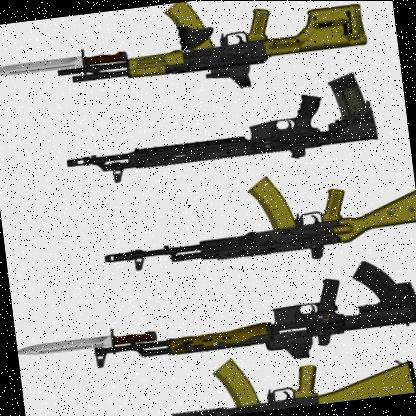rifle: (95, 163, 416, 294), (55, 70, 382, 193), (106, 253, 416, 374), (65, 0, 377, 98), (77, 333, 416, 416)
